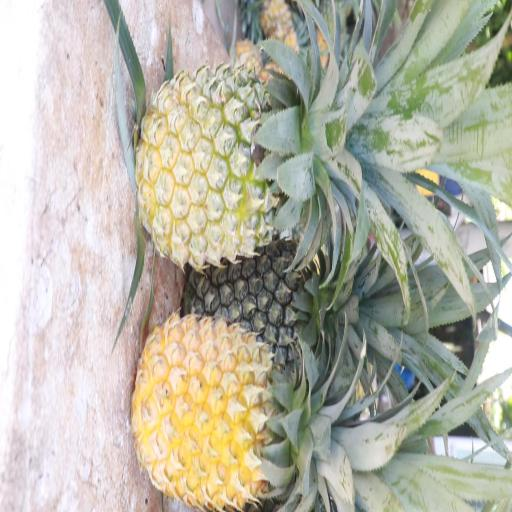------------------------------: (139, 64, 322, 264)
Pineapple - v8 v1: (138, 322, 324, 508)
